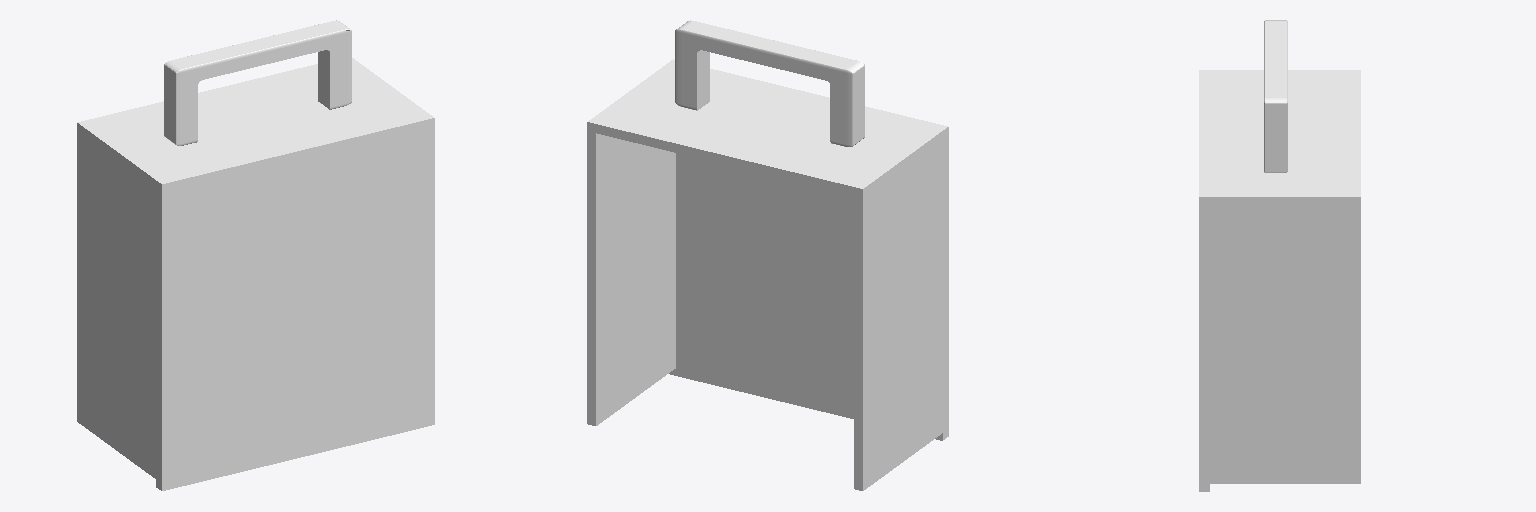
The robot description file, URDF, robot "apple.urdf":
<?xml version="0.0" ?>
<robot name="apple.urdf">
  <link name="baseLink">
    <contact>
      <lateral_friction value="0.3"/>
      <stiffness value="10000.0"/>
    </contact>
    <inertial>
      <origin rpy="0 0 0" xyz="0 0 0"/>
       <mass value="0.1"/>
       <inertia ixx="1" ixy="0" ixz="0" iyy="1" iyz="0" izz="1"/>
    </inertial>
    <visual>
      <origin rpy="0 0 0" xyz="0 0 0"/>
      <geometry>
            <mesh filename="drawer_down.obj" scale="0.001 0.001 0.001"/>
      </geometry>
       <material name="white">
        <color rgba="1 1 1 1"/>
      </material>
    </visual>
    <collision>
      <origin rpy="0 0 0" xyz="0 0 0"/>
      <geometry>
	 	<mesh filename="drawer_down_vhacd.obj" scale="0.001 0.001 0.001"/>
      </geometry>
    </collision>
  </link>  
</robot>

--- What the picture shows (computed from the rendered views, not written in the file) ---
Views: 3 orthographic renders of the robot side by side, from view 1: azimuth 30°, elevation 25°; view 2: azimuth 150°, elevation 25°; view 3: azimuth 270°, elevation 25°.
Robot: apple.urdf — 1 links, 0 joints (none); root link baseLink; default pose: every joint at zero.
Links seen in each view (by area): view 1: baseLink; view 2: baseLink; view 3: baseLink.
Link boxes in pixels (bbox=[...]): baseLink: bbox=[77, 20, 434, 490]; baseLink: bbox=[587, 20, 948, 490]; baseLink: bbox=[1199, 20, 1360, 491].
Bounding box of the posed robot: 0.186 × 0.1 × 0.25 m (x, y, z).
Meshes: 1 distinct files referenced, 1 mesh visuals loaded (1 OBJ).